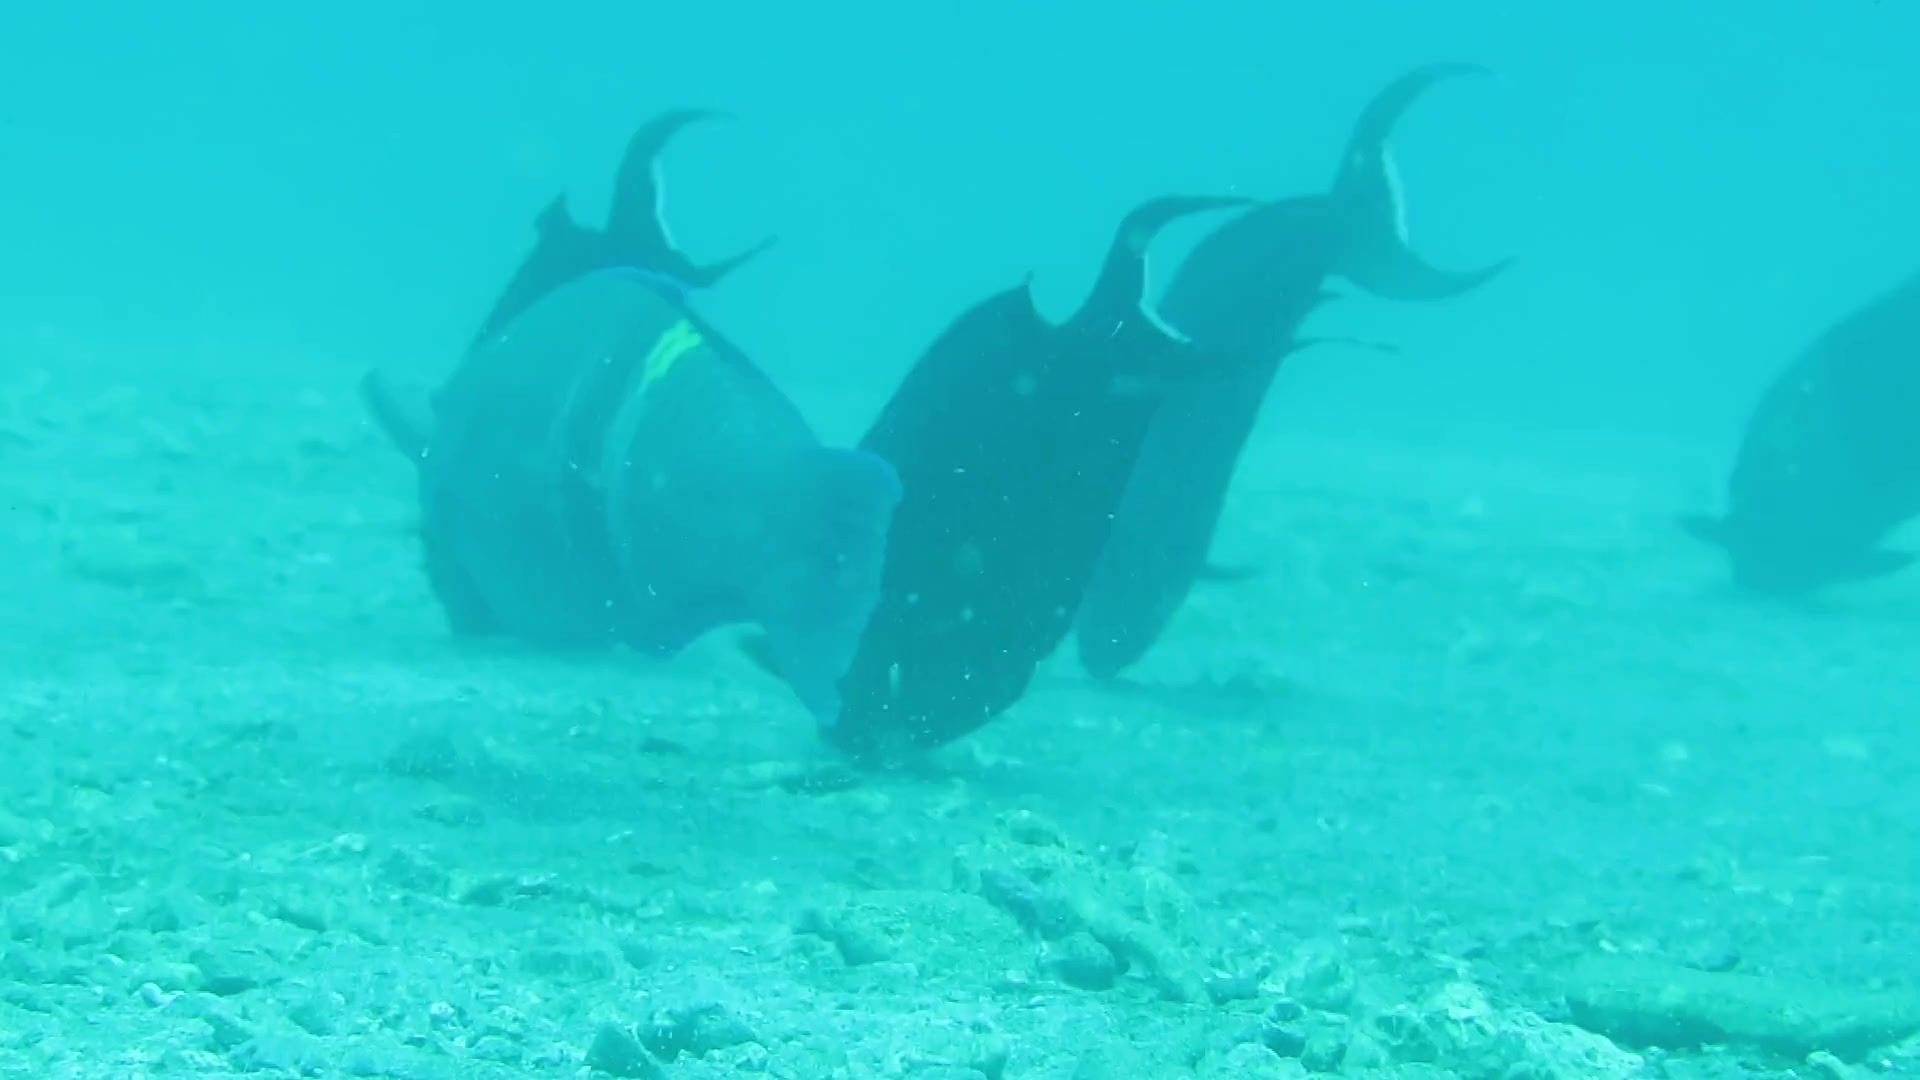Acanthurus olivaceus: (331, 255, 903, 638), (1098, 132, 1455, 692), (1564, 140, 1920, 700), (825, 208, 1182, 767)
